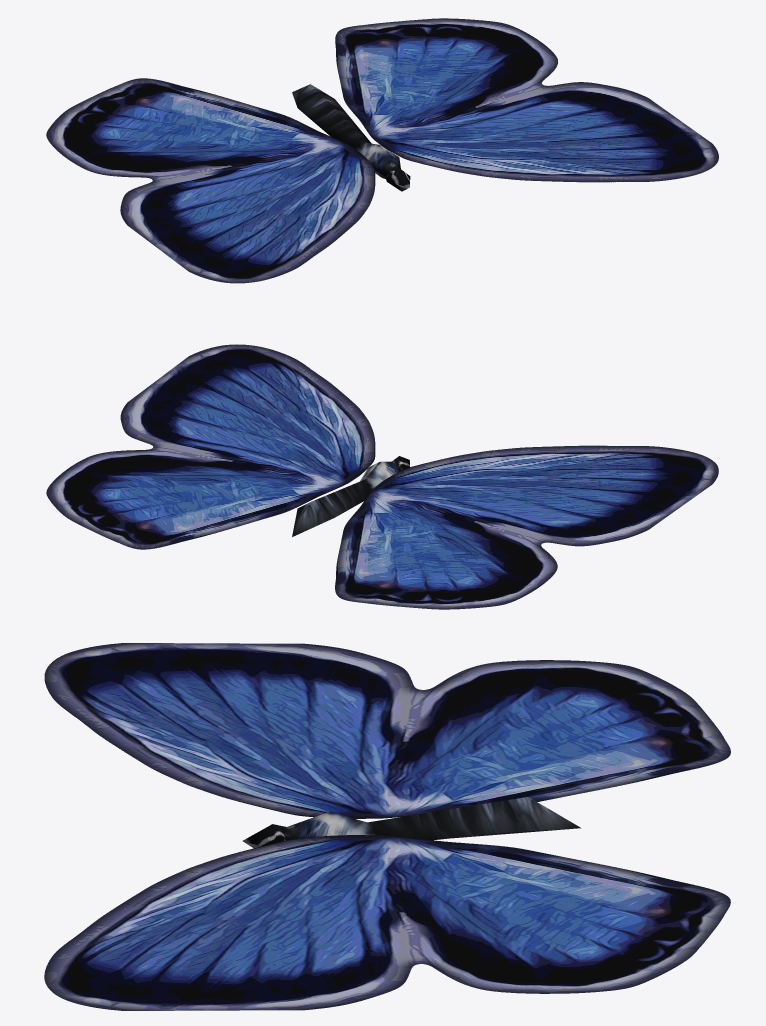
Rendered from Particle_Butterfly_Model_UltraLow.fbx.
The picture shows the model from 3 angles, top to bottom: view 1: azimuth 30°, elevation 25°; view 2: azimuth 150°, elevation 25°; view 3: azimuth 270°, elevation 25°; orthographic projection. The views are drawn at different scales.
Parts seen in each view (by area): view 1: ButterflyParticleMesh_UL; view 2: ButterflyParticleMesh_UL; view 3: ButterflyParticleMesh_UL.
Boxes of the visible parts, x1,y1,x2,y2 form: ButterflyParticleMesh_UL: (46,18,718,283); ButterflyParticleMesh_UL: (46,344,718,609); ButterflyParticleMesh_UL: (44,643,730,1010).
Size of the model in its own units: 138 by 10.42 by 116.
Materials: 1 (1 with a texture image).
